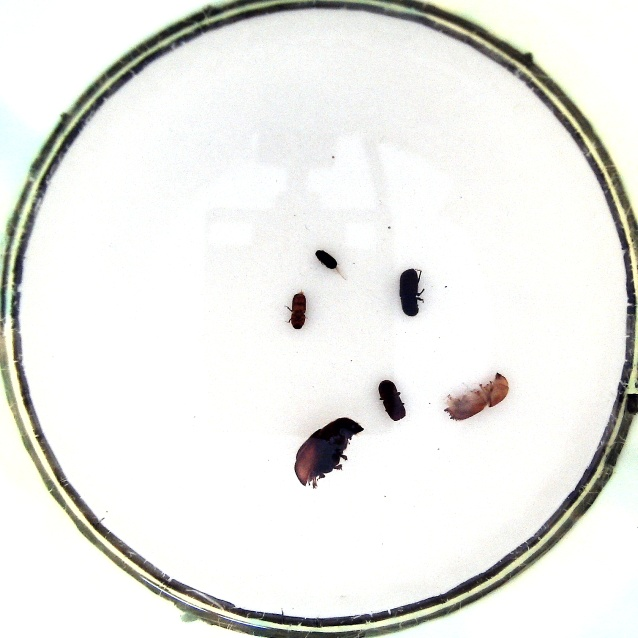acuminatus: (284, 292, 308, 329)
armandi: (396, 266, 427, 319)
boerner: (442, 372, 511, 422)
coleoptera: (314, 246, 342, 273)
leconte: (294, 418, 364, 489)
linnaeus: (376, 379, 408, 422)
